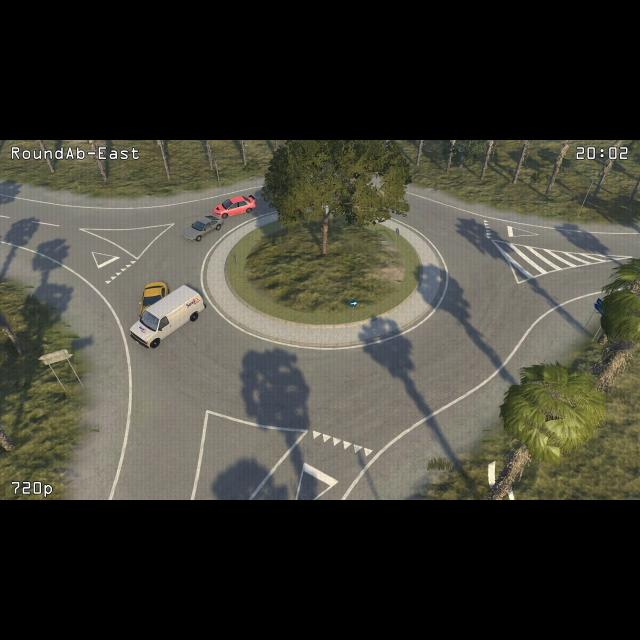accident: (125, 279, 209, 347)
